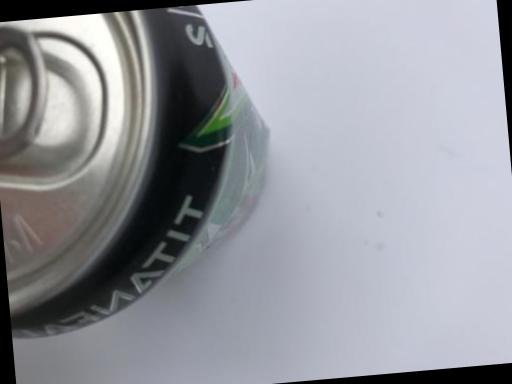metal: (0, 0, 335, 379)
